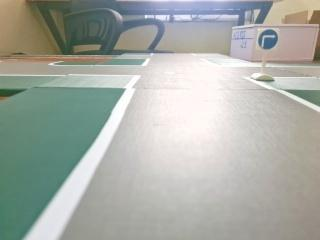right: (256, 22, 282, 55)
